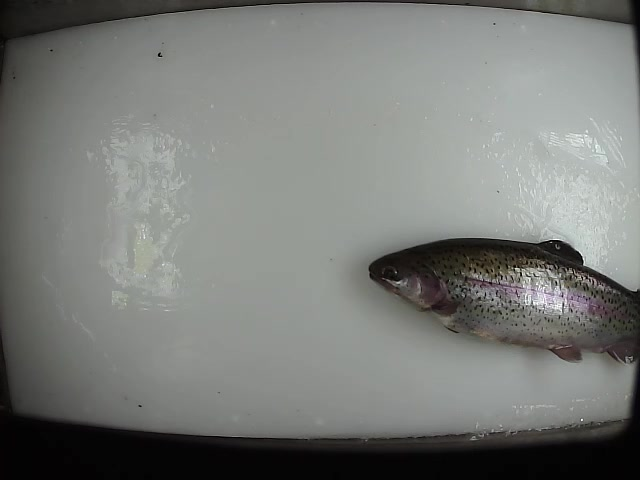fish: (367, 232, 640, 367)
